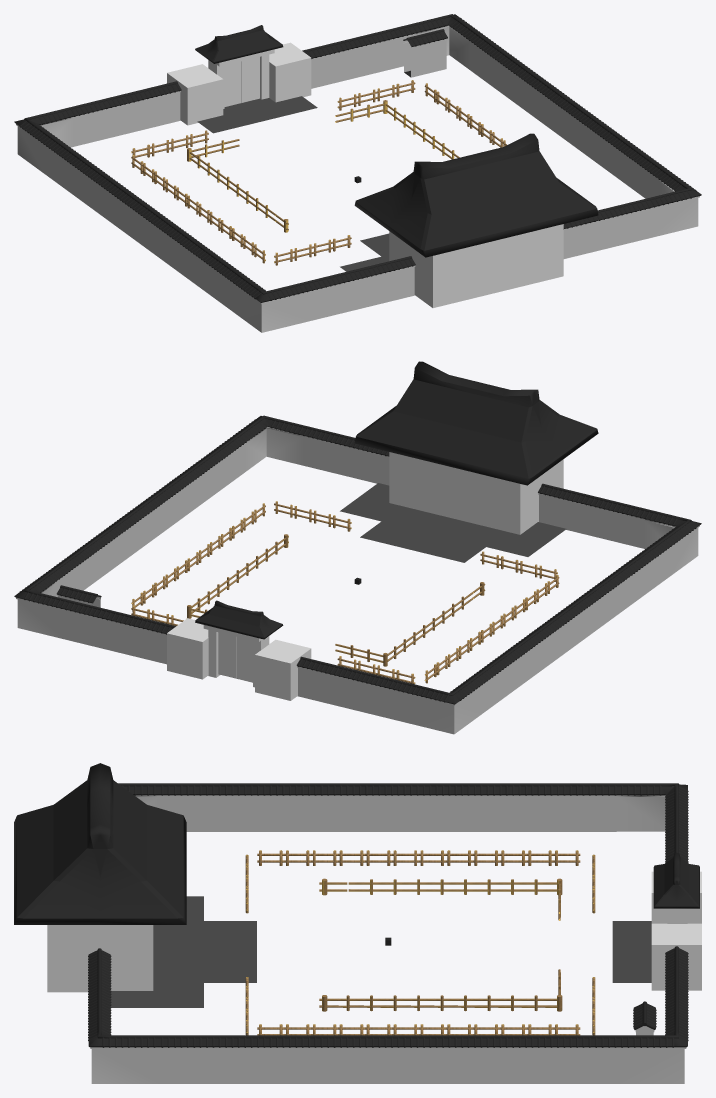
The model's file is TheArena.fbx.
The picture shows the model from 3 angles, top to bottom: view 1: azimuth 30°, elevation 25°; view 2: azimuth 150°, elevation 25°; view 3: azimuth 270°, elevation 25°; orthographic projection. The views are drawn at different scales.
Parts seen in each view (by area): view 1: ZenWall2.001, Roof, ZenWall2.004, ZenWall2, HousebBack, HouseFront Small, StonePlane, Fences, BambooFence, RoofSmall, ZenWall2.002, Door (+3 smaller); view 2: ZenWall2.001, Roof, ZenWall2.004, ZenWall2, HousebBack, StonePlane, HouseFront Small, BambooFence, Fences, RoofSmall, Door, BambooFence.001 (+3 smaller); view 3: ZenWall2.001, Roof, ZenWall2, StonePlane, HousebBack, BambooFence, ZenWall2.004, Fences, HouseFront Small, RoofSmall, ZenWall2.002.
Part boxes in pixels (bbox=[...]): ZenWall2.001: bbox=[43, 32, 671, 311]; Roof: bbox=[354, 133, 598, 257]; ZenWall2.004: bbox=[70, 25, 650, 320]; ZenWall2: bbox=[14, 14, 701, 332]; HousebBack: bbox=[389, 224, 563, 307]; HouseFront Small: bbox=[167, 42, 311, 125]; StonePlane: bbox=[197, 96, 389, 271]; Fences: bbox=[187, 100, 459, 232]; BambooFence: bbox=[131, 83, 506, 263]; RoofSmall: bbox=[195, 25, 283, 63]; ZenWall2.002: bbox=[403, 29, 447, 77]; Door: bbox=[224, 57, 259, 106]; ZenWall2.001: bbox=[43, 433, 672, 713]; Roof: bbox=[354, 361, 598, 485]; ZenWall2.004: bbox=[65, 426, 645, 722]; ZenWall2: bbox=[14, 415, 701, 734]; HousebBack: bbox=[389, 452, 563, 534]; StonePlane: bbox=[219, 483, 566, 682]; HouseFront Small: bbox=[167, 618, 311, 700]; BambooFence: bbox=[131, 503, 559, 683]; Fences: bbox=[187, 534, 485, 666]; RoofSmall: bbox=[195, 600, 283, 639]; Door: bbox=[218, 632, 252, 682]; BambooFence.001: bbox=[274, 501, 557, 581]; ZenWall2.001: bbox=[157, 783, 616, 1083]; Roof: bbox=[14, 763, 186, 924]; ZenWall2: bbox=[88, 783, 688, 1083]; StonePlane: bbox=[110, 896, 651, 1007]; HousebBack: bbox=[47, 925, 153, 992]; BambooFence: bbox=[257, 850, 580, 1035]; ZenWall2.004: bbox=[88, 809, 688, 1016]; Fences: bbox=[319, 878, 562, 1011]; HouseFront Small: bbox=[651, 871, 701, 990]; RoofSmall: bbox=[653, 852, 699, 908]; ZenWall2.002: bbox=[633, 1001, 656, 1035].
Size of the model in its own units: 2110 by 592 by 2342.
